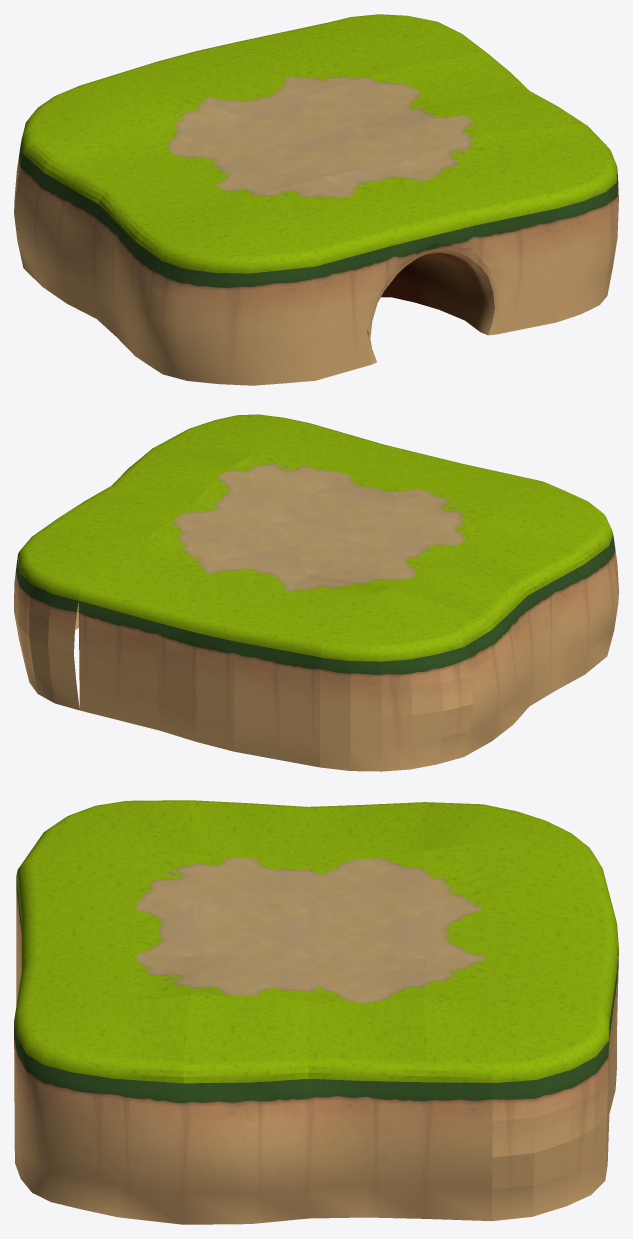
The picture shows the model from 3 angles, top to bottom: view 1: azimuth 30°, elevation 25°; view 2: azimuth 150°, elevation 25°; view 3: azimuth 270°, elevation 25°; orthographic projection. The views are drawn at different scales.
Parts seen in each view (by area): view 1: TM_Grass_BasicCube01.328, Object003; view 2: TM_Grass_BasicCube01.328; view 3: TM_Grass_BasicCube01.328.
Part boxes in pixels (bbox=[...]): TM_Grass_BasicCube01.328: bbox=[14, 14, 618, 385]; Object003: bbox=[370, 250, 494, 358]; TM_Grass_BasicCube01.328: bbox=[14, 414, 618, 771]; TM_Grass_BasicCube01.328: bbox=[14, 800, 618, 1224].
Size of the model in its own units: 23.79 by 6.67 by 21.08.
